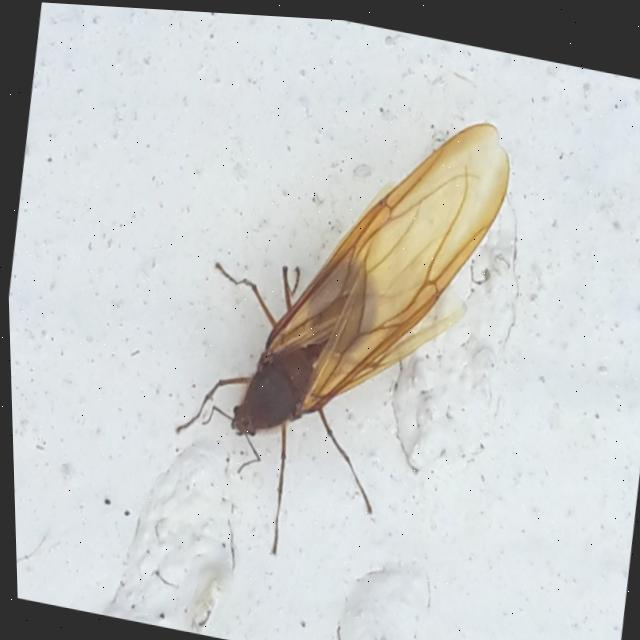Alive-Male-Alate: (148, 63, 526, 593)
